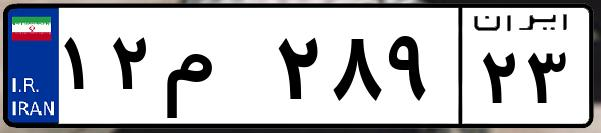1: (57, 26, 110, 100)
2: (270, 28, 330, 110), (475, 38, 525, 113), (110, 28, 158, 98)
3: (525, 38, 570, 115)
8: (330, 28, 385, 110)
9: (385, 28, 445, 110)
م: (158, 20, 270, 120)
